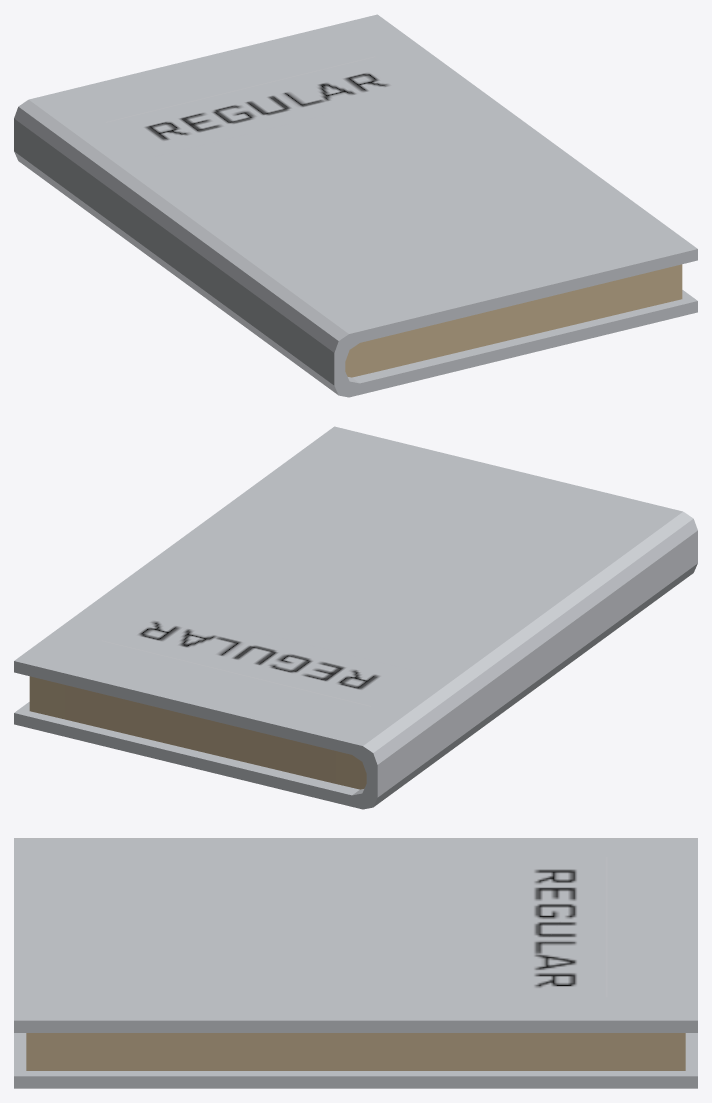
The model's file is Int_LibraryBook02.fbx.
The picture shows the model from 3 angles, top to bottom: view 1: azimuth 30°, elevation 25°; view 2: azimuth 150°, elevation 25°; view 3: azimuth 270°, elevation 25°; orthographic projection. The views are drawn at different scales.
Visible parts, largest first — view 1: Int_LibraryBook02; view 2: Int_LibraryBook02; view 3: Int_LibraryBook02.
Part boxes in pixels (x1=…): Int_LibraryBook02: x1=14, y1=14, x2=697, y2=397; Int_LibraryBook02: x1=14, y1=426, x2=697, y2=809; Int_LibraryBook02: x1=14, y1=838, x2=697, y2=1088.
Size of what is drawn, in the model's own units: 30 by 45.8 by 5.
